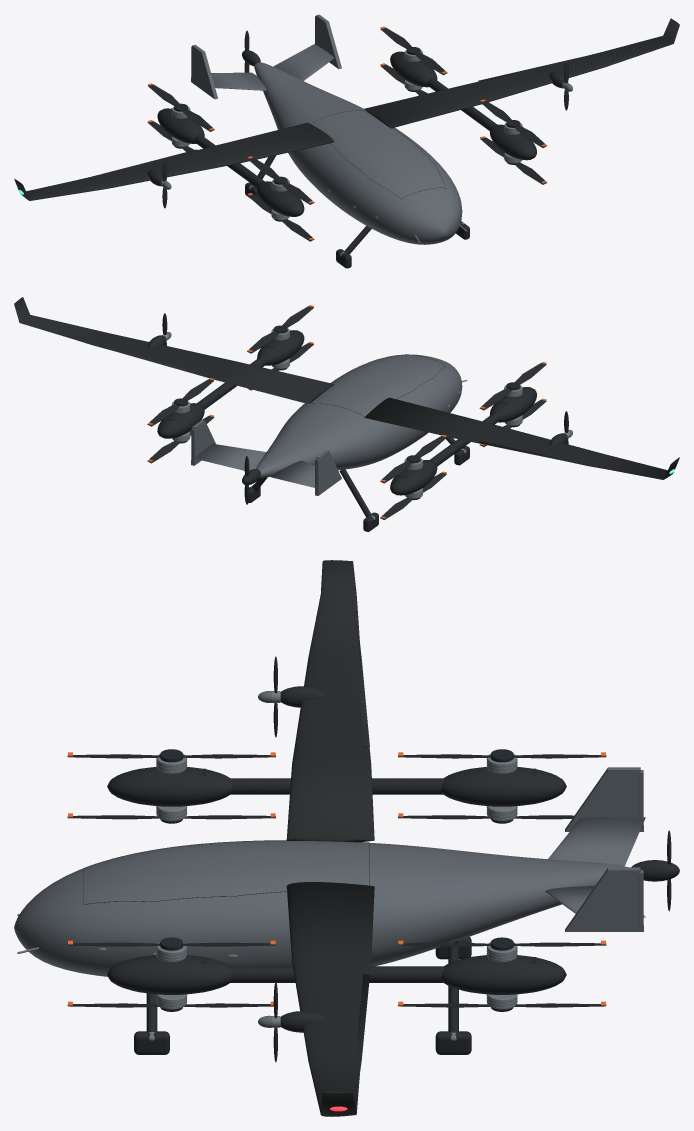
3 renders of one model, top to bottom at view 1: azimuth 30°, elevation 25°; view 2: azimuth 150°, elevation 25°; view 3: azimuth 270°, elevation 25°, orthographic. The views are drawn at different scales.
Parts seen in each view (by area): view 1: Fuselage_Shell, Right_Main_Wing, Left_Main_Wing, Right_Tailplane, Left_Front_Motor_Pod, Right_Front_Motor_Pod, Left_Rear_Motor_Pod, Right_Rear_Motor_Pod, Left_Vertical_Fin, Left_Tailplane, Right_Vertical_Fin, Left_Longitudinal_Boom (+1 smaller); view 2: Fuselage_Shell, Right_Main_Wing, Left_Main_Wing, Right_Tailplane, Left_Rear_Motor_Pod, Right_Rear_Motor_Pod, Right_Front_Motor_Pod, Left_Front_Motor_Pod, Left_Tailplane, Left_Vertical_Fin, Left_Longitudinal_Boom, Right_Longitudinal_Boom (+2 smaller); view 3: Fuselage_Shell, Left_Main_Wing, Right_Main_Wing, Left_Rear_Motor_Pod, Left_Front_Motor_Pod, Right_Rear_Motor_Pod, Right_Front_Motor_Pod, Right_Vertical_Fin, Left_Tailplane, Left_Vertical_Fin, Right_Longitudinal_Boom, Left_Longitudinal_Boom (+1 smaller).
Boxes of the visible parts, box(x1,y1,x2,y2) form: Fuselage_Shell: box(254, 62, 462, 244); Right_Main_Wing: box(364, 18, 679, 128); Left_Main_Wing: box(14, 122, 333, 200); Right_Tailplane: box(273, 44, 334, 80); Left_Front_Motor_Pod: box(257, 181, 304, 216); Right_Front_Motor_Pod: box(490, 124, 536, 160); Left_Rear_Motor_Pod: box(157, 108, 204, 143); Right_Rear_Motor_Pod: box(390, 51, 437, 87); Left_Vertical_Fin: box(191, 44, 217, 99); Left_Tailplane: box(211, 72, 266, 90); Right_Vertical_Fin: box(316, 14, 341, 68); Left_Longitudinal_Boom: box(195, 134, 264, 187); Fuselage_Shell: box(256, 354, 462, 477); Right_Main_Wing: box(14, 297, 333, 403); Left_Main_Wing: box(364, 397, 679, 479); Right_Tailplane: box(192, 444, 266, 470); Left_Rear_Motor_Pod: box(390, 460, 437, 495); Right_Rear_Motor_Pod: box(157, 403, 204, 438); Right_Front_Motor_Pod: box(257, 330, 304, 365); Left_Front_Motor_Pod: box(489, 387, 536, 422); Left_Tailplane: box(271, 460, 316, 488); Left_Vertical_Fin: box(315, 450, 341, 495); Left_Longitudinal_Boom: box(430, 413, 499, 466); Right_Longitudinal_Boom: box(197, 356, 266, 409); Fuselage_Shell: box(14, 840, 627, 976); Left_Main_Wing: box(286, 560, 374, 842); Right_Main_Wing: box(286, 882, 374, 1116); Left_Rear_Motor_Pod: box(441, 767, 566, 806); Left_Front_Motor_Pod: box(107, 767, 232, 806); Right_Rear_Motor_Pod: box(441, 955, 566, 994); Right_Front_Motor_Pod: box(107, 955, 232, 994); Right_Vertical_Fin: box(565, 867, 643, 931); Left_Tailplane: box(548, 817, 645, 866); Left_Vertical_Fin: box(565, 767, 643, 831); Right_Longitudinal_Boom: box(229, 966, 444, 982); Left_Longitudinal_Boom: box(229, 778, 444, 794).
Size of the model in its own units: 7 by 1.15 by 3.71.
Materials: 8 (1 with a texture image).
